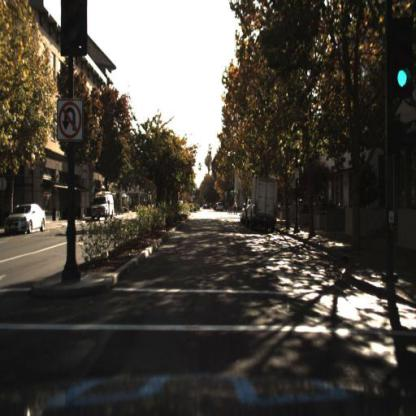car: (248, 177, 280, 229), (5, 202, 48, 238), (90, 191, 118, 225)
pedestrian: (226, 200, 240, 219), (229, 202, 241, 219)
trafficLight-Green: (389, 18, 414, 96)
truck: (245, 172, 281, 231)
